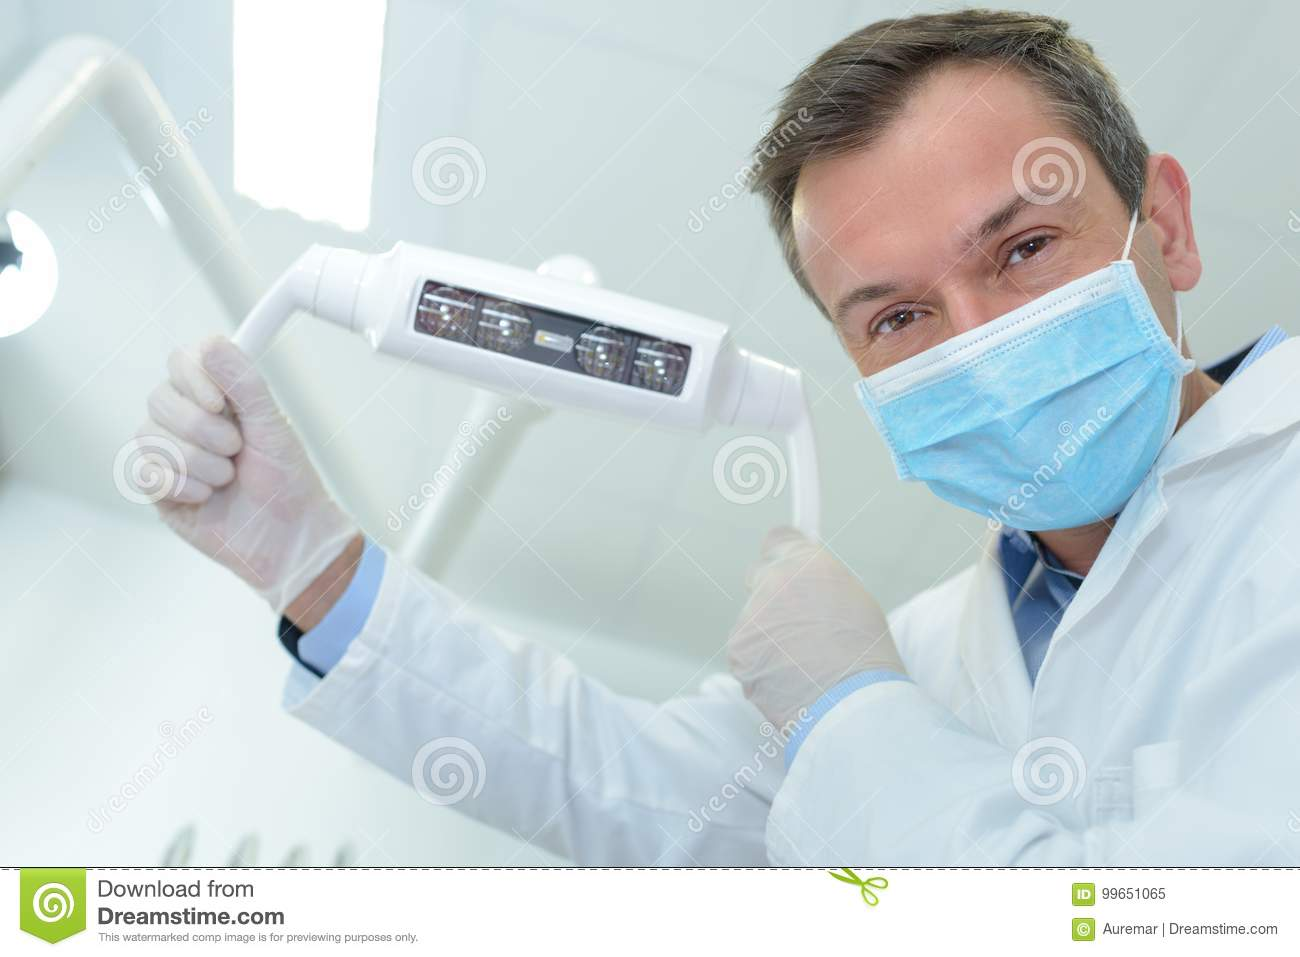mask: (847, 274, 1200, 507)
